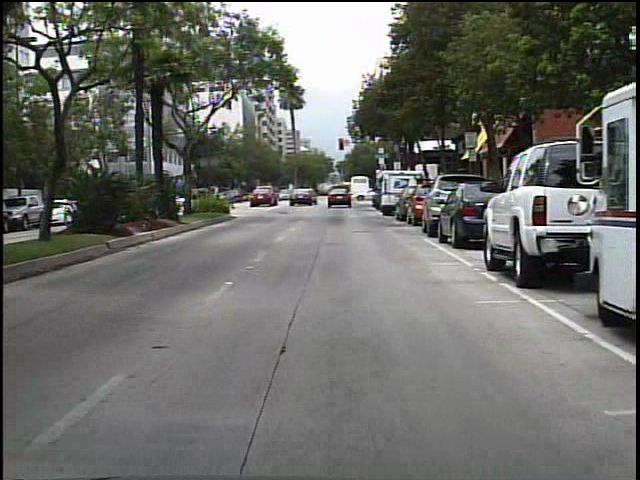person: (338, 181, 354, 203), (305, 184, 318, 205)
